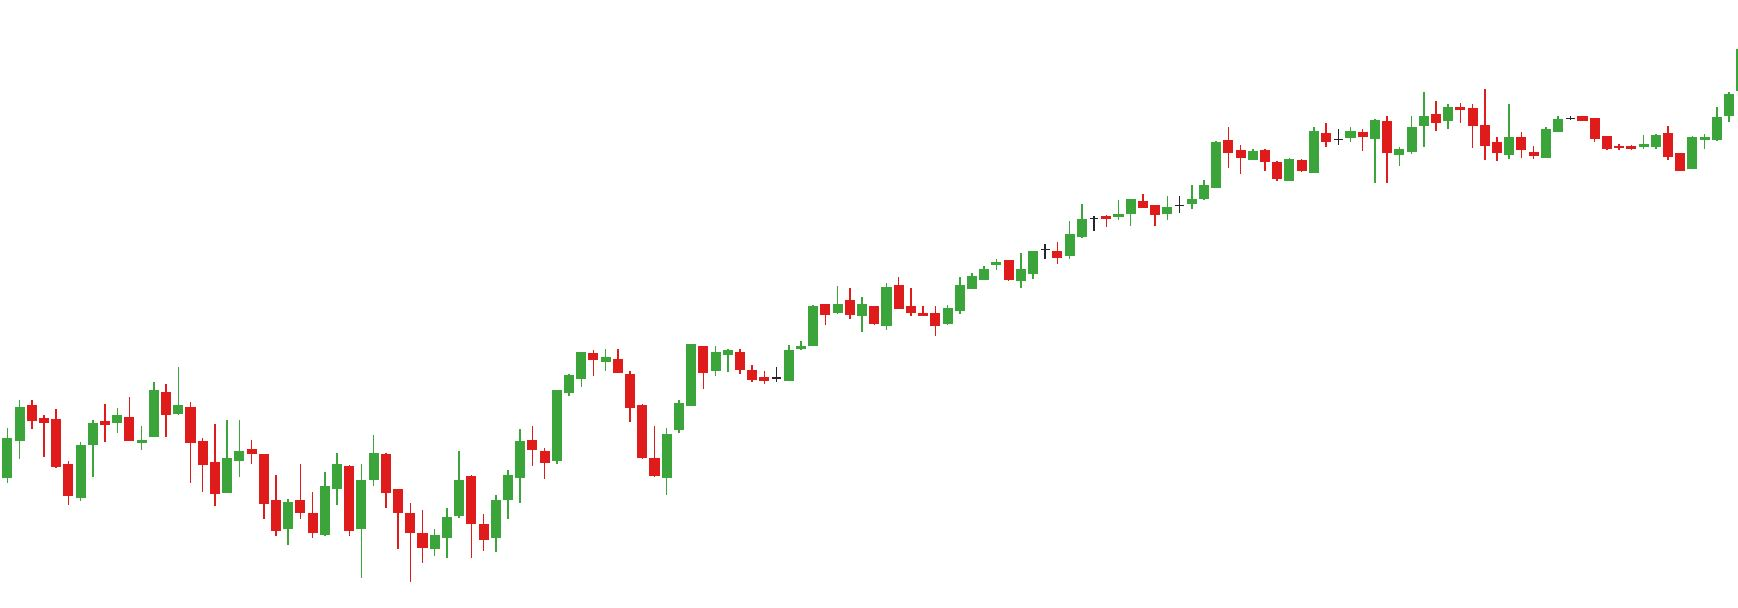buy: (539, 394, 675, 499), (270, 480, 368, 584), (869, 298, 954, 344)
